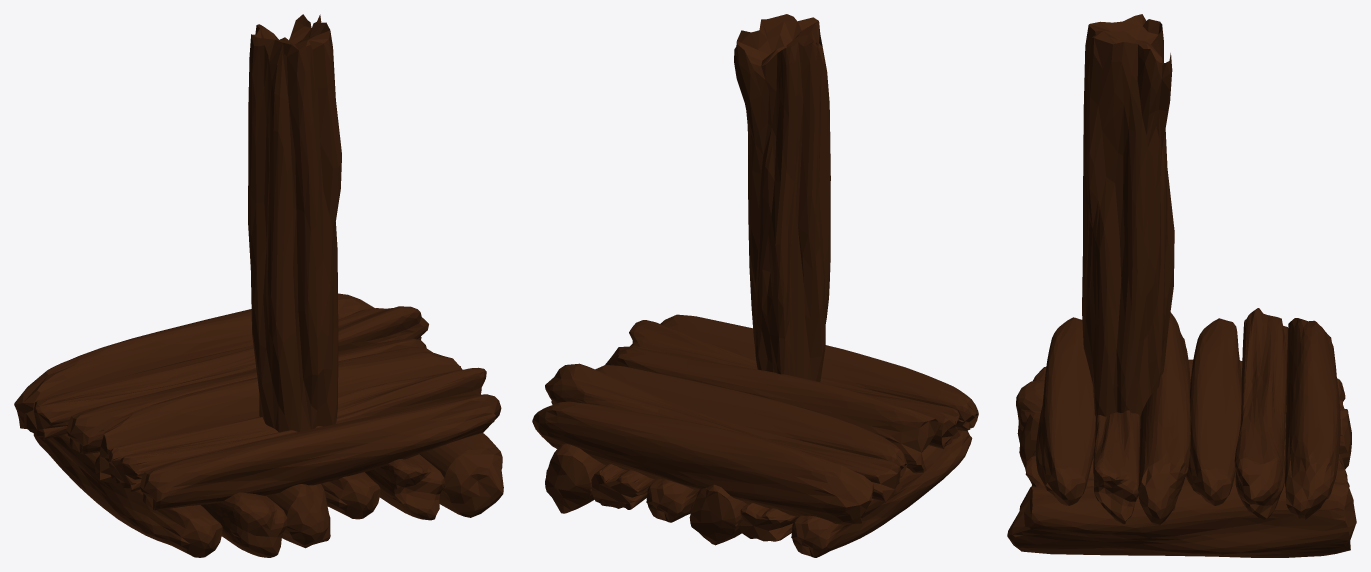
The model's file is bucher.fbx.
3 views of the same model, side by side, from view 1: azimuth 30°, elevation 25°; view 2: azimuth 150°, elevation 25°; view 3: azimuth 270°, elevation 25° (orthographic). The views are drawn at different scales.
Parts seen in each view (by area): view 1: buche debout, buche.003, Cylinder.007, Cylinder.006, Cylinder.008, Cylinder.005, buche, Cylinder.003, buche.002, Cylinder, Cylinder.004, Cylinder.002 (+1 smaller); view 2: buche debout, Cylinder.006, Cylinder.007, buche.002, Cylinder.005, buche.003, buche, Cylinder.008, Cylinder.003, Cylinder.002, Cylinder.004, Cylinder (+1 smaller); view 3: buche debout, Cylinder.003, Cylinder.006, Cylinder.005, buche.003, buche.002, Cylinder.007, Cylinder.008, Cylinder.002, Cylinder, Cylinder.004.
Part boxes in pixels (left/top/right/bottom): buche debout: left=248, top=14, right=341, bottom=432; buche.003: left=140, top=394, right=501, bottom=510; Cylinder.007: left=95, top=347, right=462, bottom=482; Cylinder.006: left=14, top=293, right=374, bottom=429; Cylinder.008: left=108, top=367, right=486, bottom=491; Cylinder.005: left=24, top=306, right=428, bottom=439; buche: left=33, top=433, right=222, bottom=557; Cylinder.003: left=419, top=432, right=503, bottom=517; buche.002: left=66, top=338, right=426, bottom=454; Cylinder: left=201, top=492, right=287, bottom=557; Cylinder.004: left=365, top=454, right=444, bottom=520; Cylinder.002: left=267, top=483, right=330, bottom=548; buche debout: left=734, top=14, right=830, bottom=381; Cylinder.006: left=532, top=401, right=873, bottom=524; Cylinder.007: left=605, top=346, right=940, bottom=473; buche.002: left=595, top=365, right=907, bottom=477; Cylinder.005: left=545, top=363, right=901, bottom=502; buche.003: left=660, top=314, right=978, bottom=430; buche: left=791, top=430, right=972, bottom=557; Cylinder.008: left=629, top=320, right=960, bottom=449; Cylinder.003: left=545, top=443, right=605, bottom=513; Cylinder.002: left=689, top=484, right=746, bottom=545; Cylinder.004: left=591, top=464, right=655, bottom=509; Cylinder: left=737, top=502, right=797, bottom=541; buche debout: left=1082, top=14, right=1174, bottom=416; Cylinder.003: left=1007, top=476, right=1356, bottom=557; Cylinder.006: left=1285, top=318, right=1340, bottom=519; Cylinder.005: left=1234, top=308, right=1288, bottom=519; buche.003: left=1036, top=317, right=1095, bottom=505; buche.002: left=1186, top=318, right=1241, bottom=505; Cylinder.007: left=1138, top=312, right=1190, bottom=525; Cylinder.008: left=1093, top=410, right=1140, bottom=524; Cylinder.002: left=1019, top=405, right=1351, bottom=469; Cylinder: left=1016, top=380, right=1343, bottom=442; Cylinder.004: left=1025, top=455, right=1349, bottom=487.
Size of the model in its own units: 5380 by 6410 by 4327.
